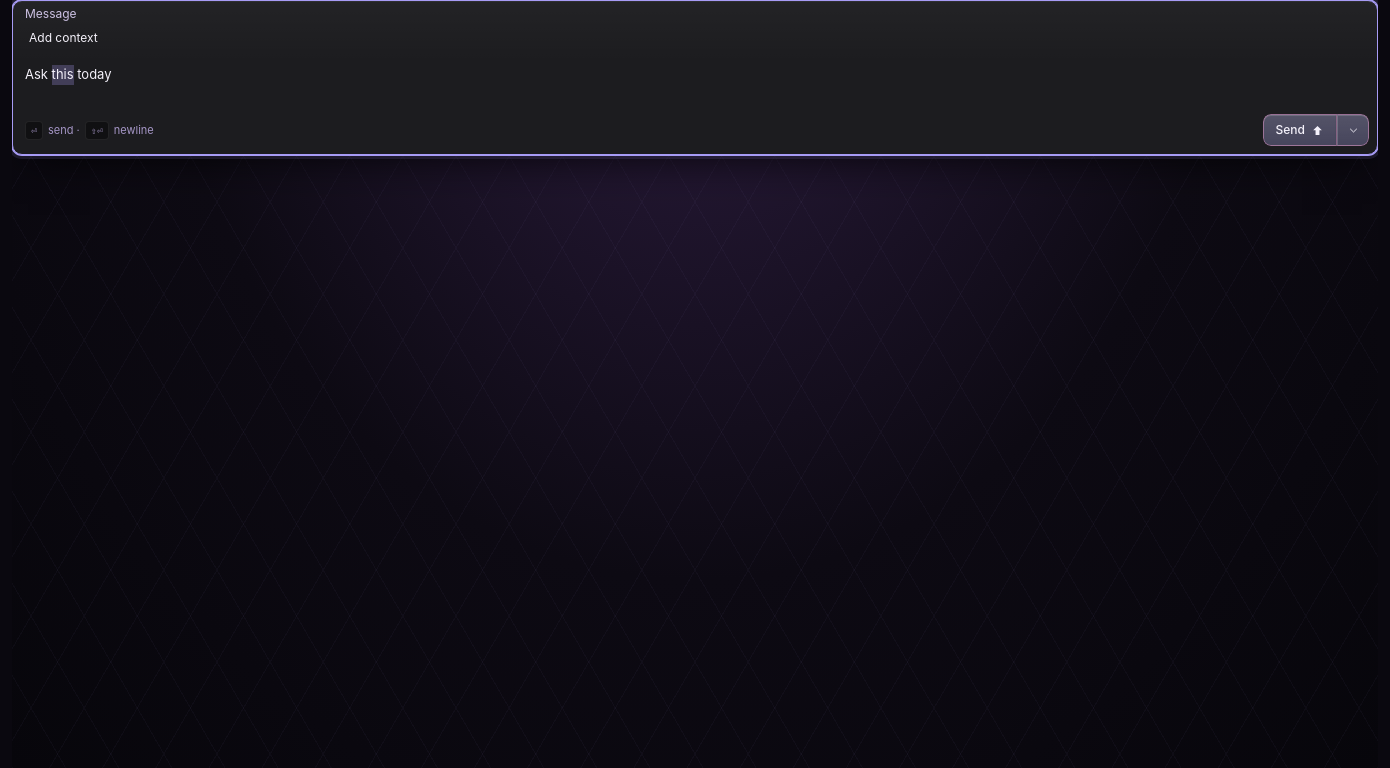
Test case: ContextPicker › restores the draft selection when Escape is pressed from an option
Click the button "Add context".
click(63, 38)  # box [19,23,108,53]
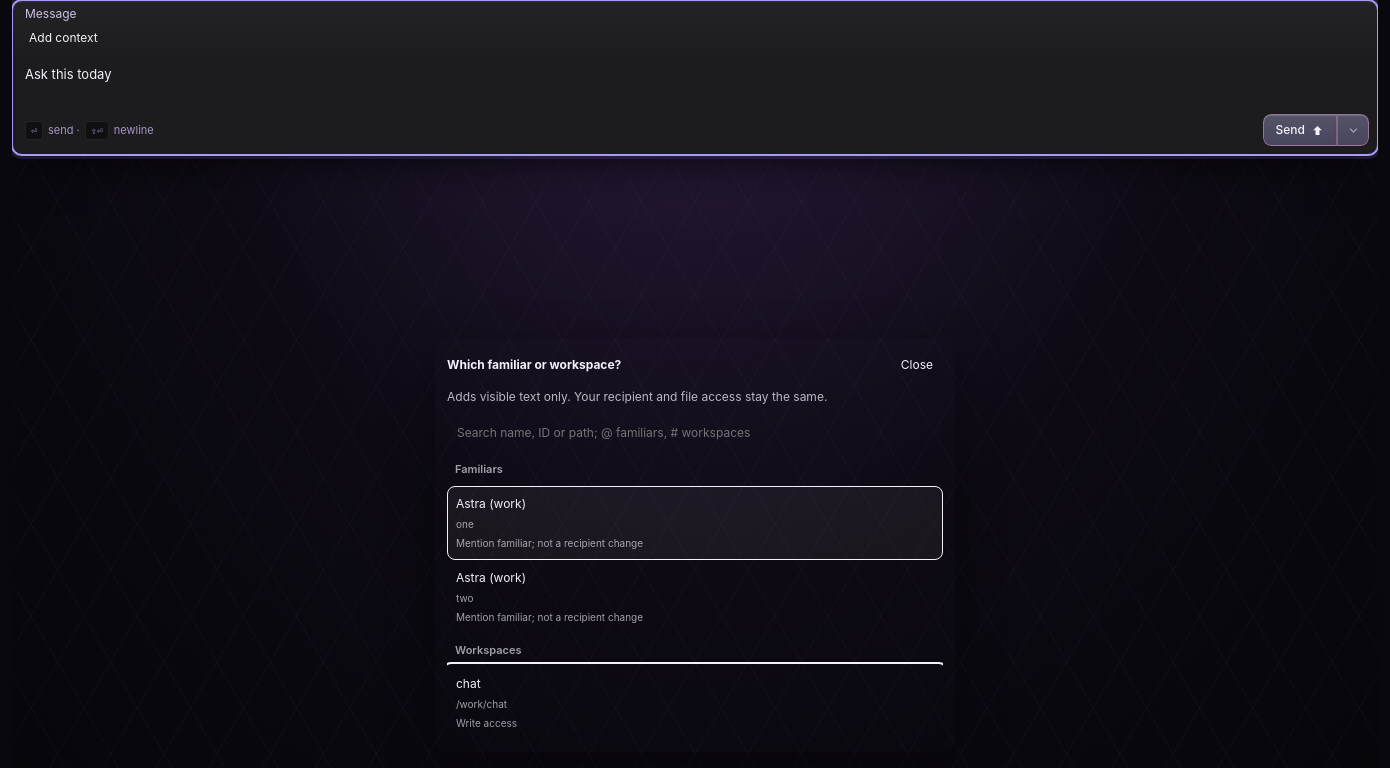
Press Escape in the option "chat /work/chat Write access", box [447,666,943,740]
Expected: the dropdown is shown, [447,414,943,452]
Press Escape in the option "chat /work/chat Write access", box [447,666,943,740]
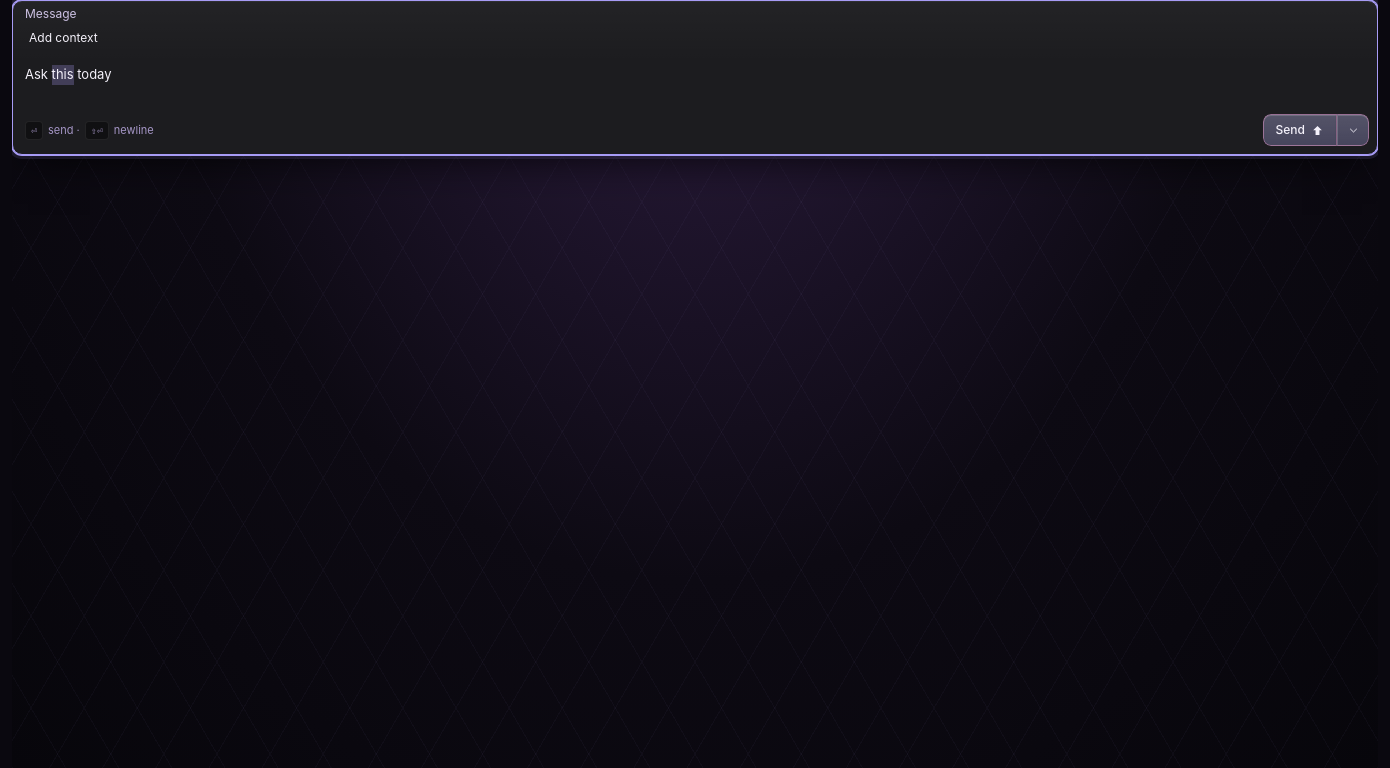
Expected: the text box holds "Ask this today", [13,57,1377,110]
Expected: the dropdown is gone
